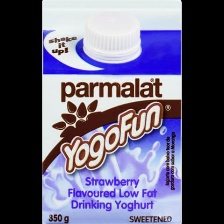carton: (38, 4, 182, 224)
